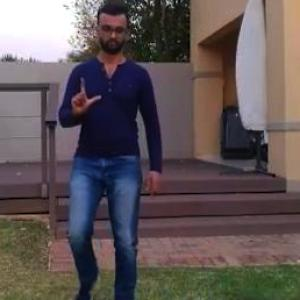land_hand: (64, 69, 103, 121)
